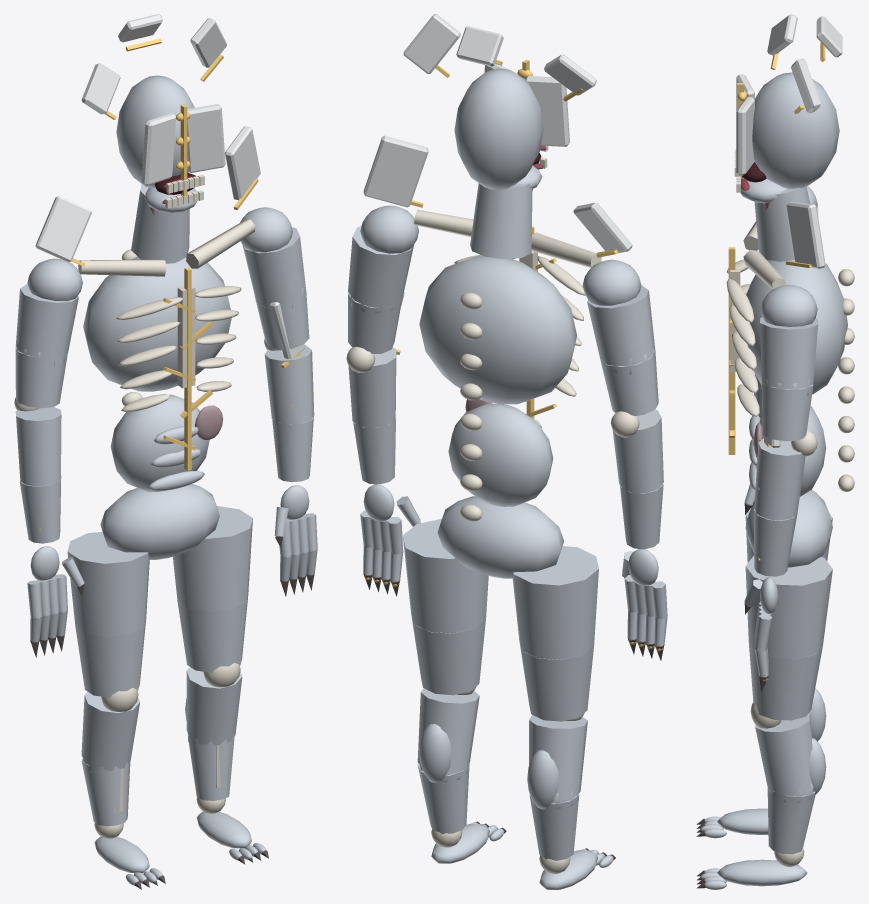
The model's file is phased.glb.
The picture shows the model from 3 angles, left to right: view 1: azimuth 30°, elevation 25°; view 2: azimuth 150°, elevation 25°; view 3: azimuth 270°, elevation 25°; orthographic projection. The views are drawn at different scales.
Parts seen in each view (by area): view 1: ward_phase.071, ward_phase.066, ward_phase.012, ward_phase, ward_phase.067, ward_phase.073, ward_phase.001, ward_phase.013, ward_phase.046, ward_phase.015, ward_phase.003, ward_phase.049 (+34 smaller); view 2: ward_phase.071, ward_phase.073, ward_phase.012, ward_phase.067, ward_phase.066, ward_phase, ward_phase.072, ward_phase.013, ward_phase.001, ward_phase.046, ward_phase.025, ward_phase.049 (+25 smaller); view 3: ward_phase.073, ward_phase, ward_phase.071, ward_phase.001, ward_phase.003, ward_phase.025, ward_phase.028, ward_phase.066, ward_phase.026, ward_phase.072, ward_phase.004, ward_phase.029 (+25 smaller).
Part boxes in pixels (box(x1,y1,x2,y2)): ward_phase.071: box(83, 256, 231, 391); ward_phase.066: box(100, 484, 219, 559); ward_phase.012: box(67, 531, 149, 636); ward_phase: box(173, 506, 252, 611); ward_phase.067: box(110, 394, 209, 491); ward_phase.073: box(116, 75, 194, 188); ward_phase.001: box(177, 595, 248, 672); ward_phase.013: box(75, 621, 145, 697); ward_phase.046: box(15, 283, 78, 358); ward_phase.015: box(81, 691, 140, 770); ward_phase.003: box(186, 667, 242, 745); ward_phase.049: box(15, 407, 61, 485); ward_phase.071: box(419, 255, 576, 404); ward_phase.073: box(454, 68, 543, 189); ward_phase.012: box(512, 546, 598, 659); ward_phase.067: box(448, 403, 553, 506); ward_phase.066: box(437, 496, 563, 578); ward_phase: box(402, 518, 488, 633); ward_phase.072: box(470, 183, 532, 258); ward_phase.013: box(519, 641, 593, 721); ward_phase.001: box(411, 615, 485, 695); ward_phase.046: box(587, 285, 655, 365); ward_phase.025: box(348, 226, 413, 307); ward_phase.049: box(611, 409, 663, 493); ward_phase.073: box(752, 72, 839, 188); ward_phase: box(745, 556, 832, 659); ward_phase.071: box(746, 259, 847, 394); ward_phase.001: box(749, 643, 822, 720); ward_phase.003: box(755, 713, 813, 795); ward_phase.025: box(760, 317, 818, 388); ward_phase.028: box(754, 438, 805, 520); ward_phase.066: box(745, 489, 832, 567); ward_phase.026: box(762, 382, 813, 441); ward_phase.072: box(754, 186, 810, 261); ward_phase.004: box(767, 788, 815, 854); ward_phase.029: box(754, 509, 797, 576).
Bounding box in the file's own units: 0.9619 × 2.57 × 0.4435.
